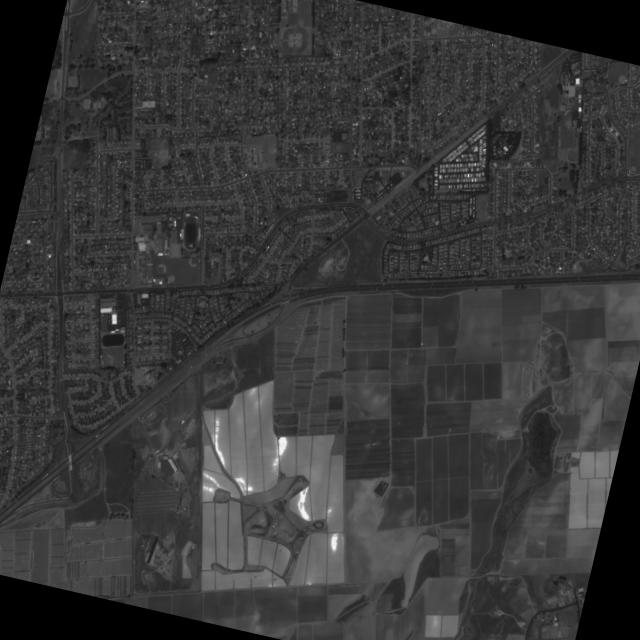storage-tank: (564, 589, 570, 595), (271, 524, 274, 528), (274, 520, 277, 523), (272, 531, 275, 534), (277, 513, 279, 516), (273, 522, 275, 525)
